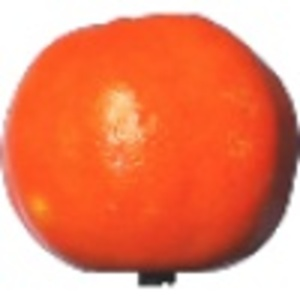tangerina: (1, 1, 300, 285)
